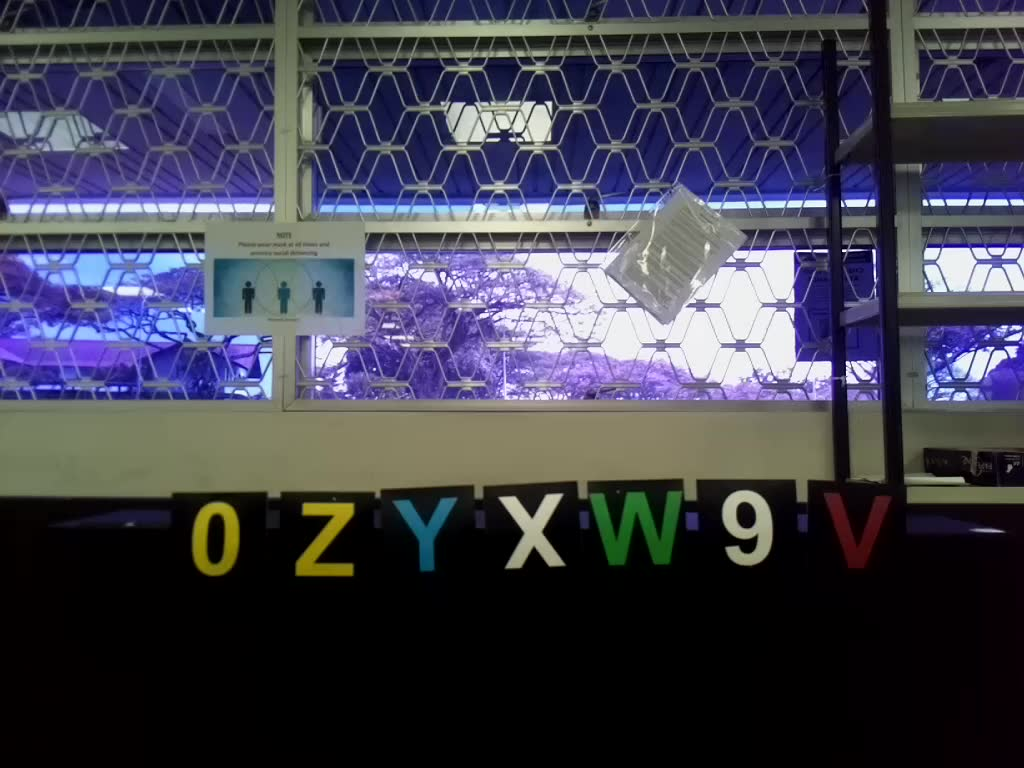0: (192, 502, 238, 578)
9: (719, 490, 775, 568)
v: (823, 490, 889, 571)
w: (586, 491, 682, 567)
x: (497, 493, 571, 570)
y: (387, 500, 461, 569)
z: (290, 504, 356, 578)
